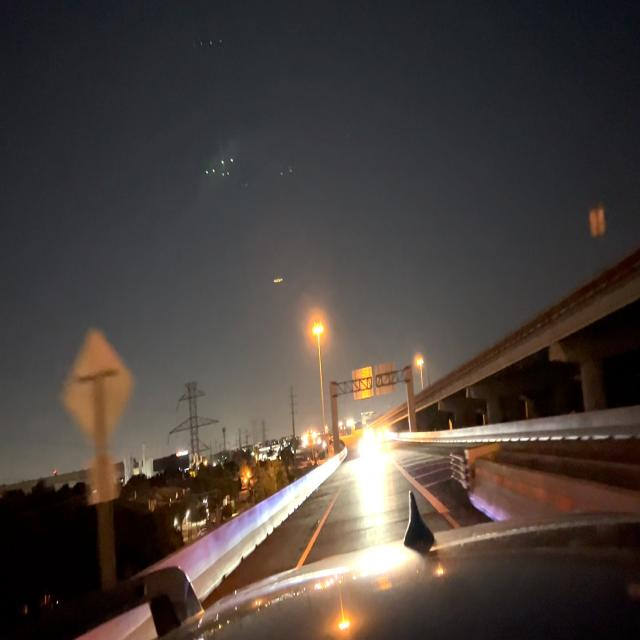back-of-sign: (62, 325, 134, 445), (83, 455, 119, 507)
